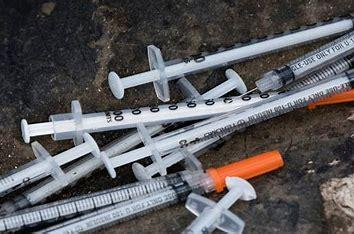Syringe: (19, 146, 284, 234), (98, 16, 354, 100), (5, 98, 290, 148)
